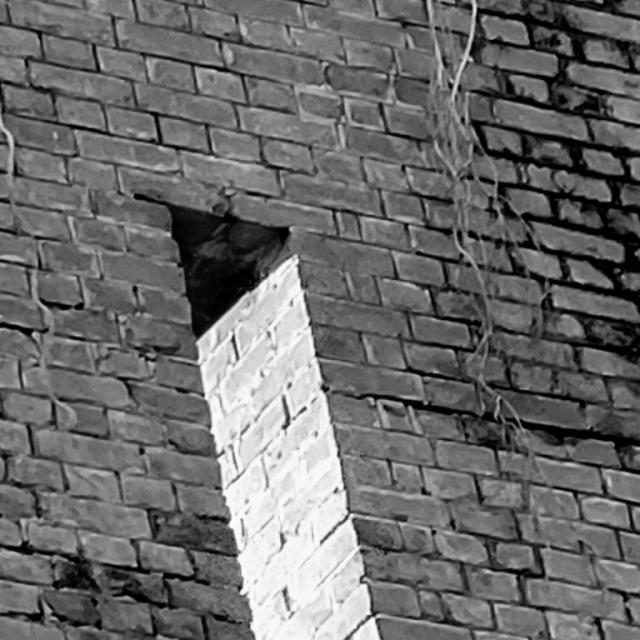crack: (345, 394, 640, 448)
